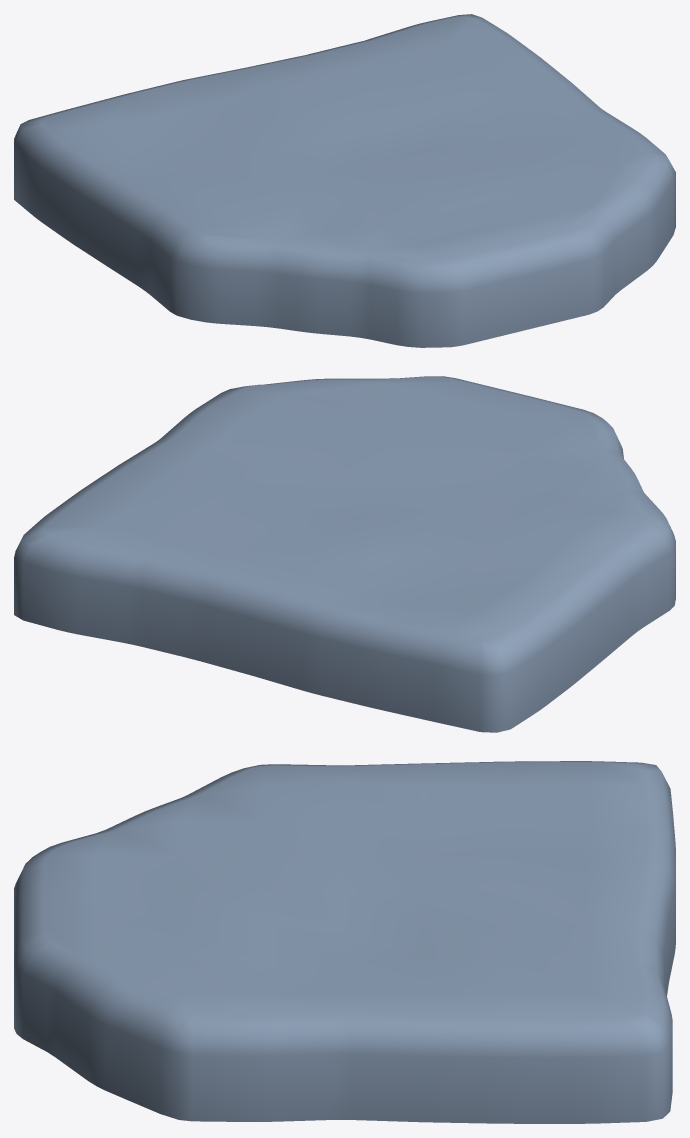
File: ruins-floor-tile-3.fbx
3 views of the same model, one above another, from view 1: azimuth 30°, elevation 25°; view 2: azimuth 150°, elevation 25°; view 3: azimuth 270°, elevation 25° (orthographic). The views are drawn at different scales.
Parts seen in each view (by area): view 1: Plane; view 2: Plane; view 3: Plane.
Boxes of the visible parts, x1,y1,x2,y2 form: Plane: (14, 14, 675, 347); Plane: (14, 376, 675, 732); Plane: (14, 761, 675, 1123).
Size of the model in its own units: 91.65 by 14.93 by 90.97.
